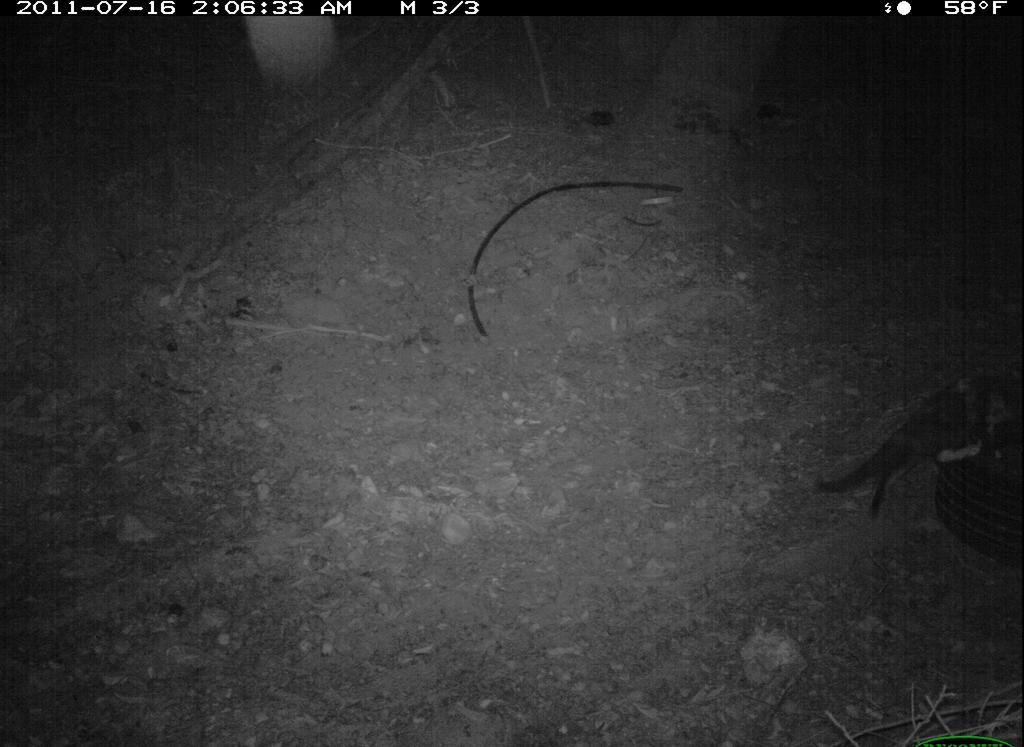cat: (807, 368, 1019, 533)
